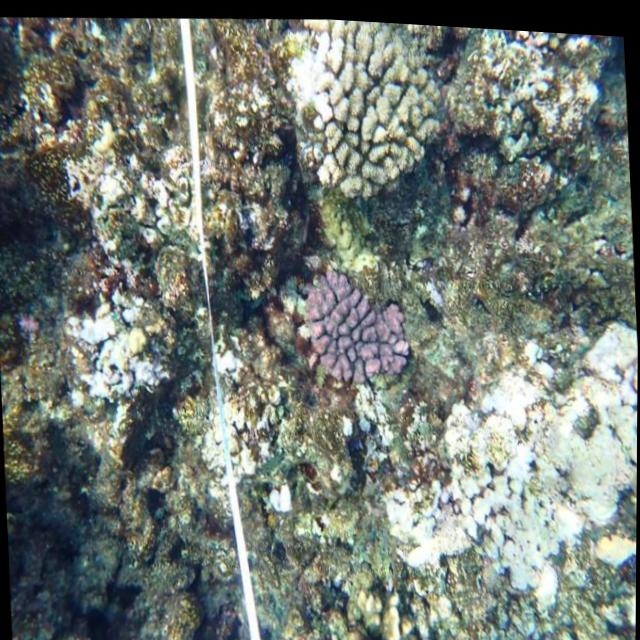Bleached Coral: (369, 332, 638, 617), (178, 356, 304, 528), (52, 118, 206, 251), (60, 307, 189, 405), (268, 33, 354, 127)
Healthy Coral: (295, 231, 406, 400)
